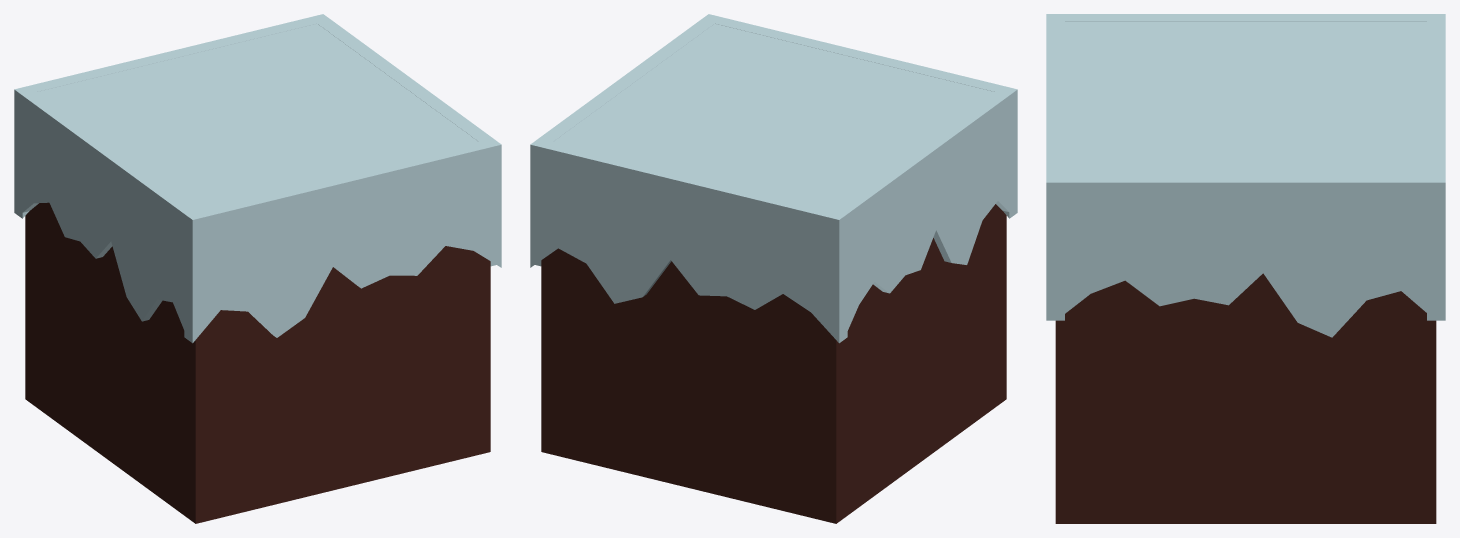
File: Biom_Eis_Grasblock.fbx
3 renders of one model, left to right at view 1: azimuth 30°, elevation 25°; view 2: azimuth 150°, elevation 25°; view 3: azimuth 270°, elevation 25°, orthographic. The views are drawn at different scales.
Visible parts, largest first — view 1: Block.005, Gras.004; view 2: Block.005, Gras.004; view 3: Block.005, Gras.004.
Part boxes in pixels (x1,y1,x2,y2): Block.005: (25, 23, 490, 523); Gras.004: (14, 14, 501, 343); Block.005: (541, 23, 1006, 523); Gras.004: (530, 14, 1017, 343); Block.005: (1055, 22, 1436, 523); Gras.004: (1046, 14, 1445, 337).
Size of the model in its own units: 105 by 100 by 105.
